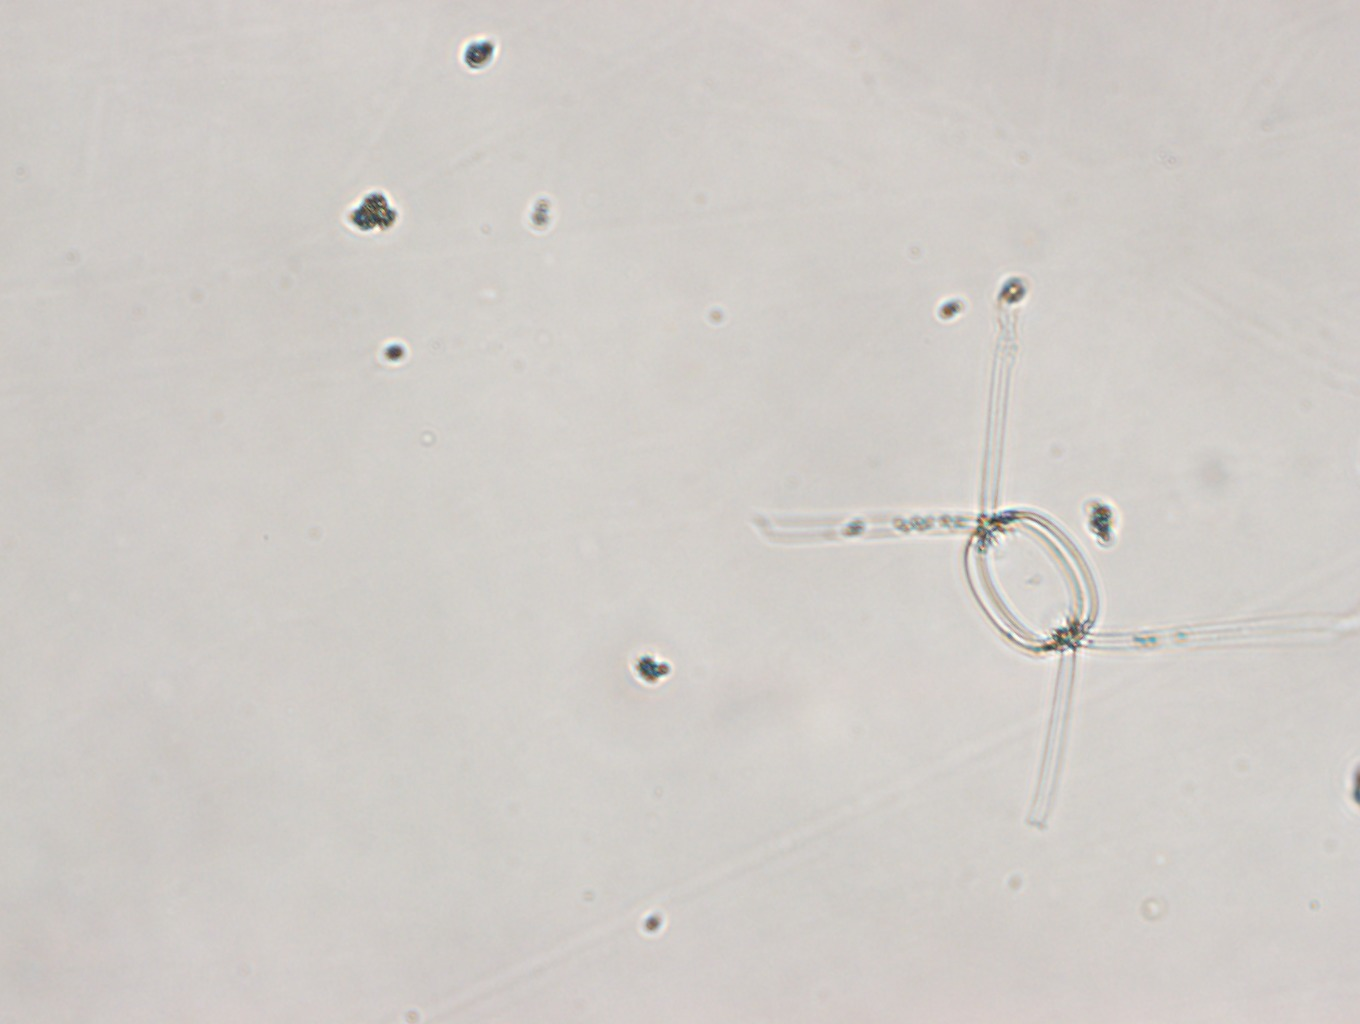chaetoceros: (759, 304, 1235, 825)
